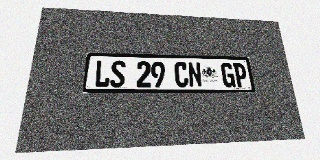2: (136, 61, 151, 87)
9: (151, 61, 165, 87)
C: (174, 62, 189, 87)
G: (220, 63, 236, 87)
L: (94, 60, 111, 87)
N: (187, 62, 202, 87)
P: (233, 63, 248, 87)
S: (110, 60, 126, 87)
